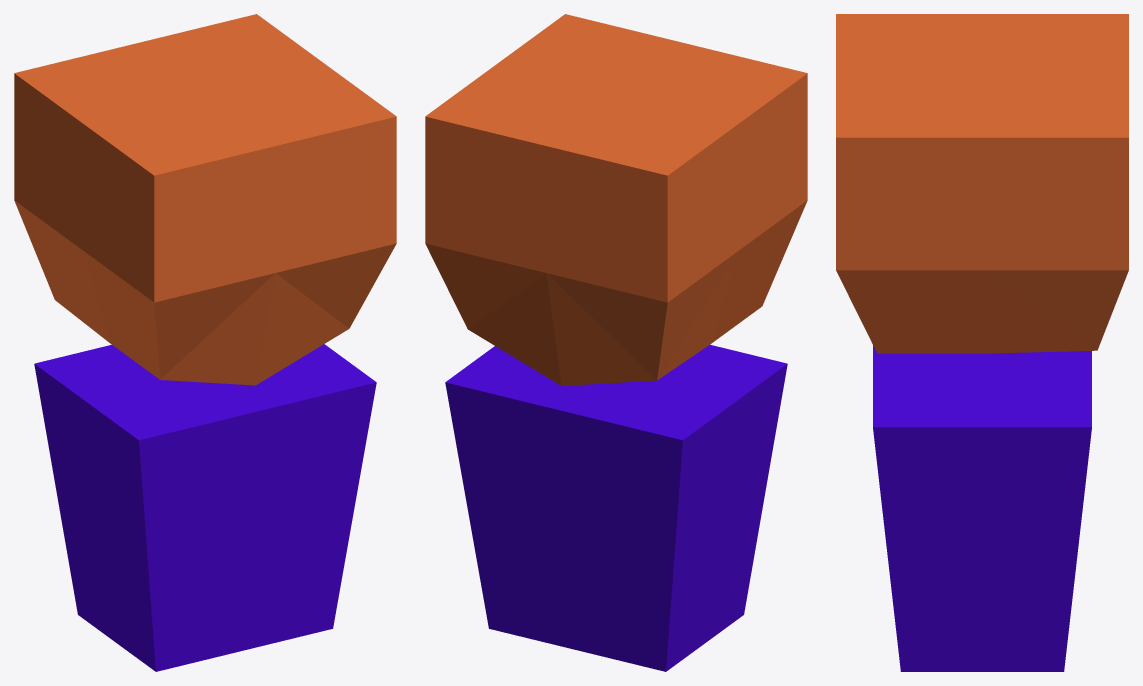
Rendered from Player.dae.
3 views of the same model, side by side, from view 1: azimuth 30°, elevation 25°; view 2: azimuth 150°, elevation 25°; view 3: azimuth 270°, elevation 25° (orthographic). The views are drawn at different scales.
Visible parts, largest first — view 1: PlayerModel.001; view 2: PlayerModel.001; view 3: PlayerModel.001.
Part boxes in pixels (x1,y1,x2,y2): PlayerModel.001: (14,14,396,671); PlayerModel.001: (425,14,807,671); PlayerModel.001: (836,14,1128,671).
Bounding box in the file's own units: 0.478 × 0.478 × 0.9921.
